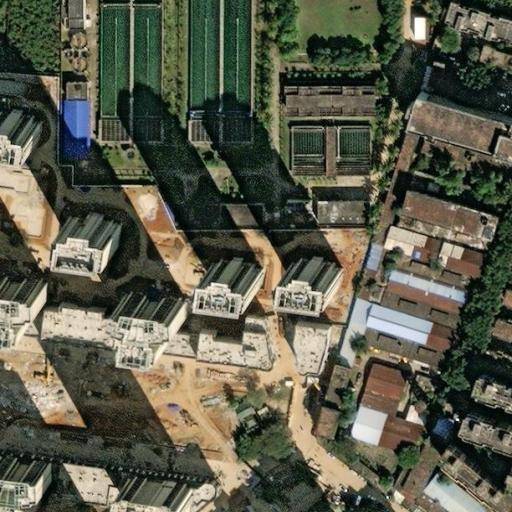building: (78, 319, 281, 378), (359, 133, 414, 253), (380, 229, 486, 284), (430, 446, 512, 512), (402, 196, 502, 248), (404, 93, 494, 149), (415, 138, 510, 182), (383, 273, 468, 321), (342, 407, 415, 458), (29, 292, 96, 347), (112, 294, 179, 348), (356, 331, 444, 371), (438, 0, 512, 45), (54, 458, 117, 507), (0, 457, 52, 512), (413, 471, 480, 512), (353, 365, 400, 418), (453, 413, 512, 455), (185, 109, 250, 144), (399, 321, 458, 357), (300, 322, 334, 380), (62, 211, 113, 249), (206, 256, 256, 294), (279, 255, 329, 293), (0, 297, 47, 337), (0, 91, 49, 129), (324, 129, 362, 178), (283, 129, 320, 178), (323, 88, 371, 119), (55, 101, 84, 150), (279, 87, 324, 118), (308, 203, 363, 228), (469, 378, 512, 408), (323, 369, 350, 409), (167, 205, 211, 228), (214, 207, 259, 228), (436, 68, 463, 103), (479, 353, 512, 379), (476, 50, 510, 74), (319, 410, 344, 442), (423, 64, 444, 93), (396, 405, 421, 429), (352, 247, 375, 273), (64, 0, 79, 31), (490, 325, 512, 344), (63, 83, 84, 102), (408, 20, 419, 44), (320, 129, 324, 178), (499, 295, 512, 310), (54, 0, 60, 17), (57, 17, 60, 30)
